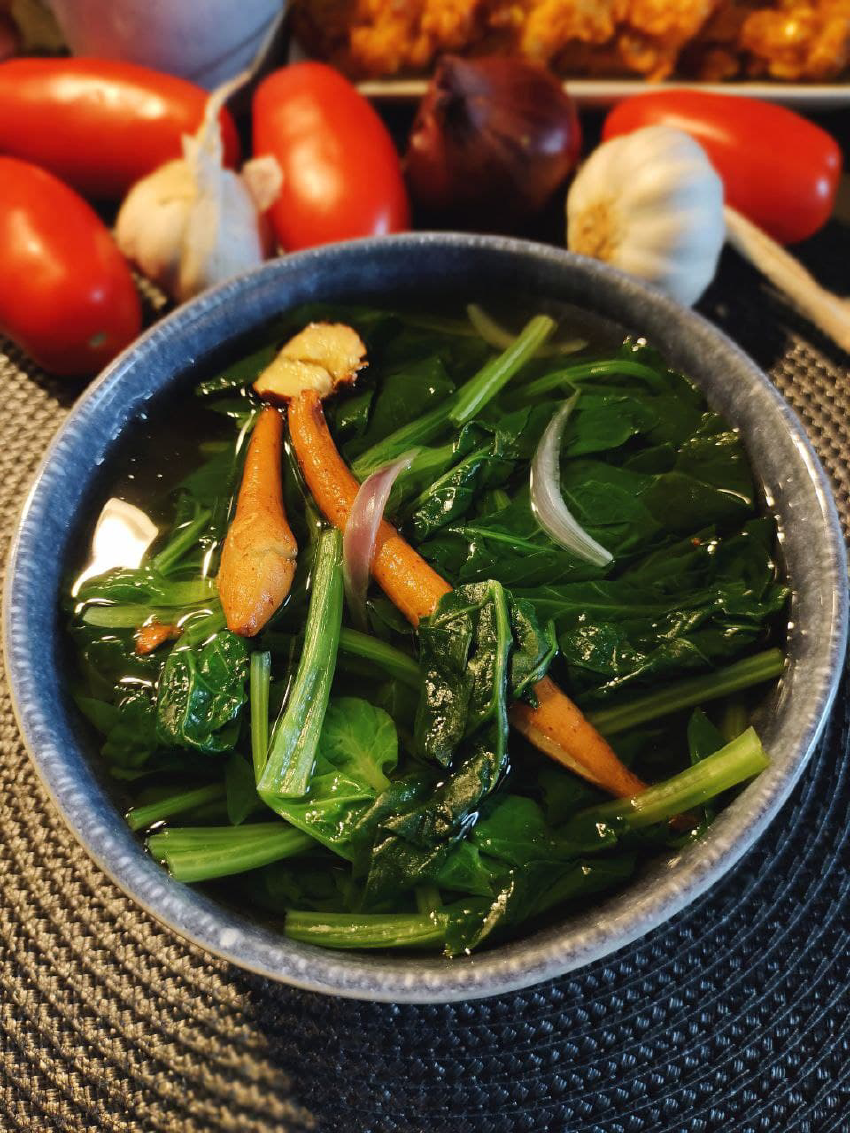Sayur Bayam: (9, 277, 784, 1000)
